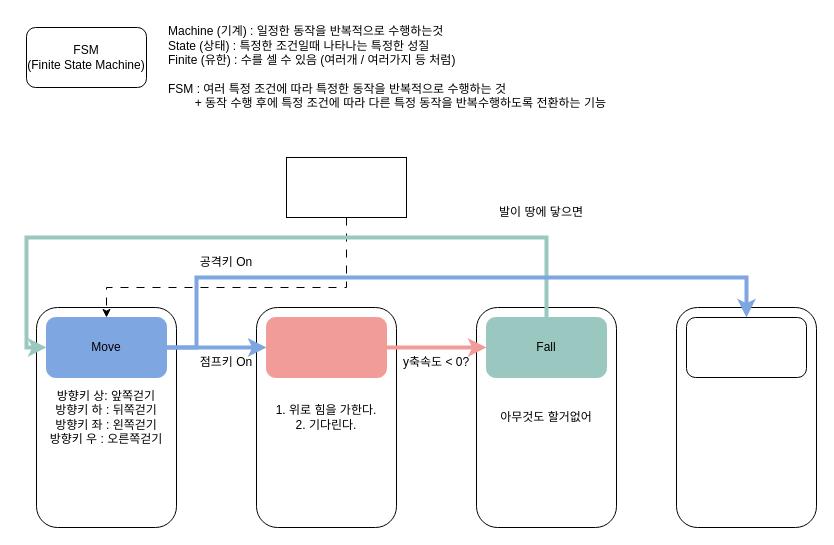
Some shapes in this 834 by 545 pixel diagram are drawn without their labels. The centre of each missing label's shape, as x and y in pixels:
Attack: pixel 746 347
Jump: pixel 326 347
Machine: pixel 346 187
